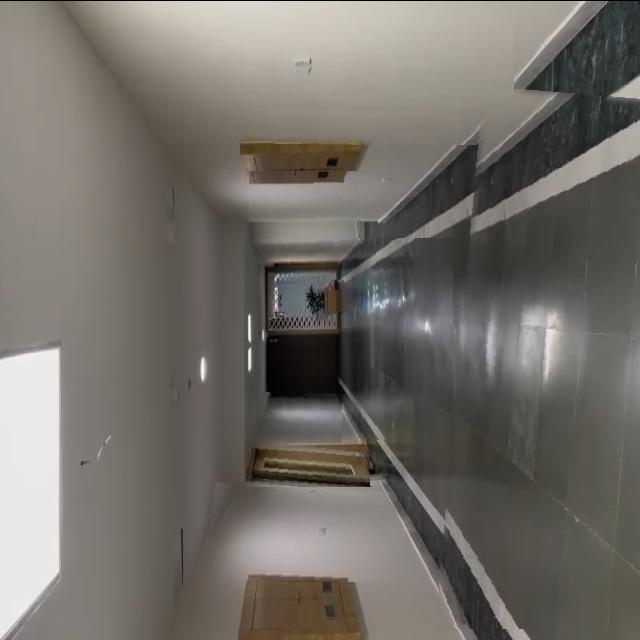door: (245, 439, 371, 486)
floor: (435, 85, 640, 628), (333, 237, 453, 443)
furniture: (304, 279, 346, 323)
wall: (161, 0, 514, 144), (204, 481, 389, 581), (250, 170, 364, 256), (258, 391, 342, 442)
